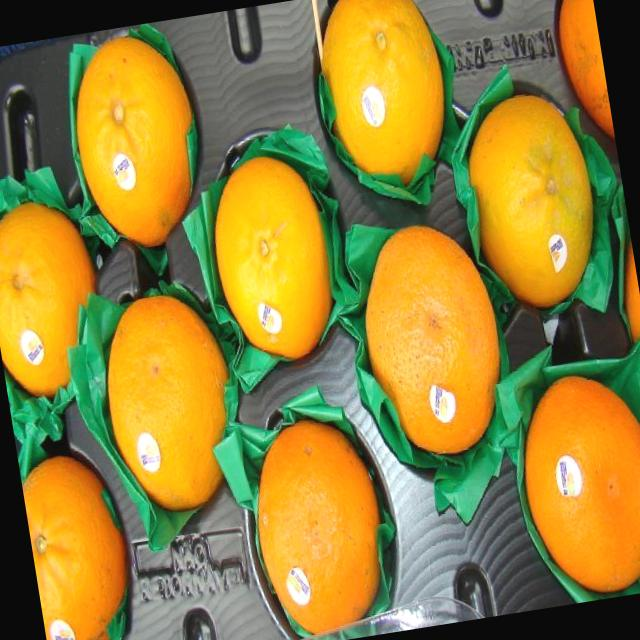Orange: (350, 213, 515, 464), (92, 284, 249, 520), (241, 409, 396, 640), (456, 84, 608, 317), (62, 26, 212, 256), (201, 147, 343, 370), (509, 364, 640, 603), (309, 0, 458, 196), (18, 447, 142, 640), (0, 192, 113, 403), (546, 0, 614, 144), (613, 229, 640, 378)
